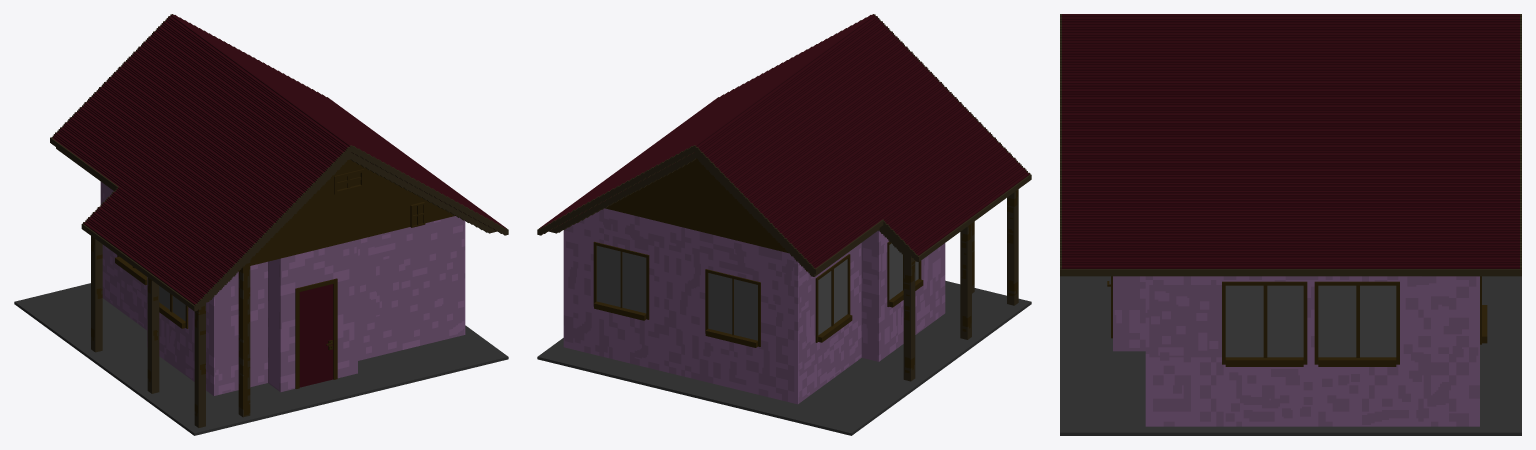
Rendered from home13.obj.
3 renders of one model, left to right at view 1: azimuth 30°, elevation 25°; view 2: azimuth 150°, elevation 25°; view 3: azimuth 270°, elevation 25°, orthographic. The views are drawn at different scales.
Size of the model in its own units: 25.6 by 19.6 by 25.4.
Materials: 1 (1 with a texture image).
